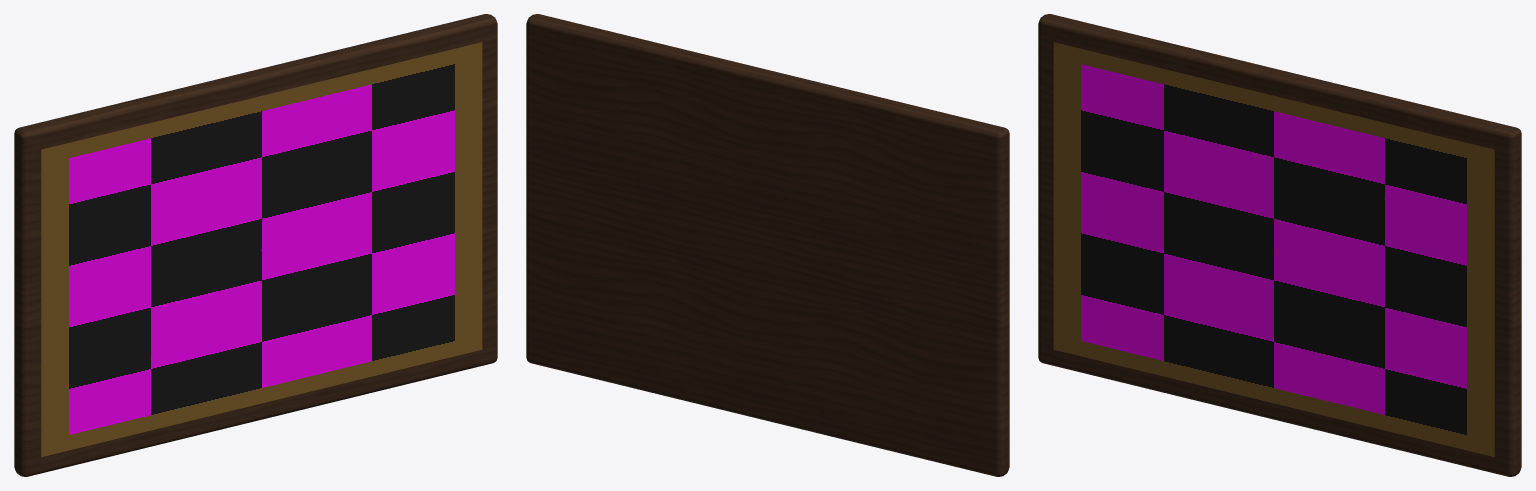
The model's file is painting_v1.glb.
3 views of the same model, side by side, from view 1: azimuth 30°, elevation 25°; view 2: azimuth 150°, elevation 25°; view 3: azimuth 330°, elevation 25° (orthographic).
Visible parts, largest first — view 1: dyn_painting_variant, painting_v1; view 2: painting_v1; view 3: dyn_painting_variant, painting_v1.
Boxes of the visible parts, x1,y1,x2,y2 form: dyn_painting_variant: [41, 42, 482, 457]; painting_v1: [14, 14, 497, 476]; painting_v1: [526, 14, 1009, 476]; dyn_painting_variant: [1053, 42, 1494, 457]; painting_v1: [1038, 14, 1521, 476].
Bounding box in the file's own units: 1.3 × 0.9002 × 0.052.
2 materials, 2 textured.
